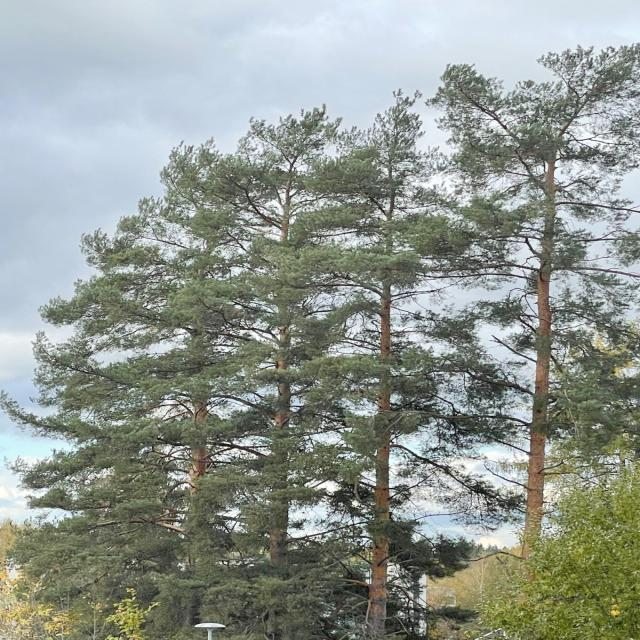pine: (403, 32, 640, 619), (201, 74, 375, 626), (18, 200, 228, 631)
